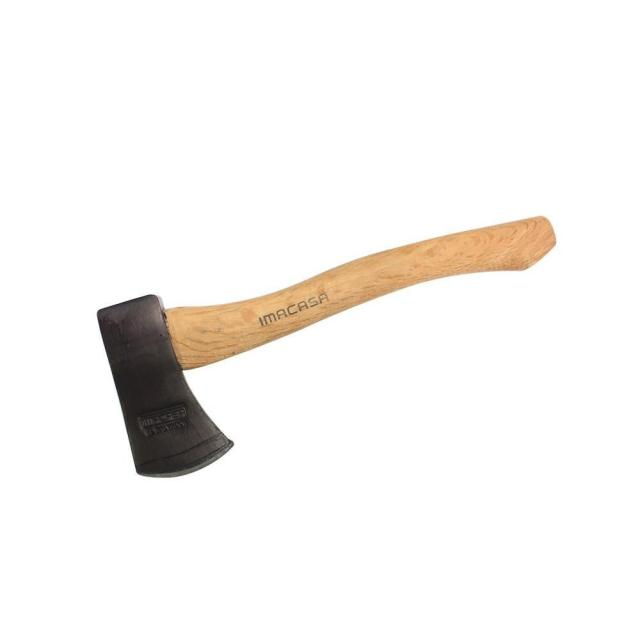Kapak: (67, 183, 605, 485)
